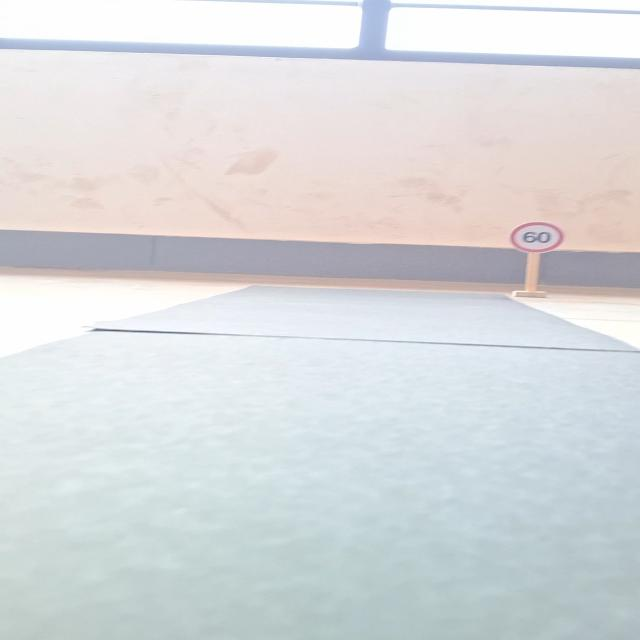Speed60: (507, 220, 568, 254)
